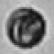correct: (5, 4, 48, 50)
